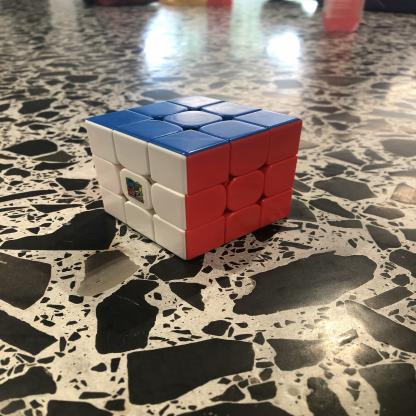SolvedCube: (80, 70, 299, 266)
